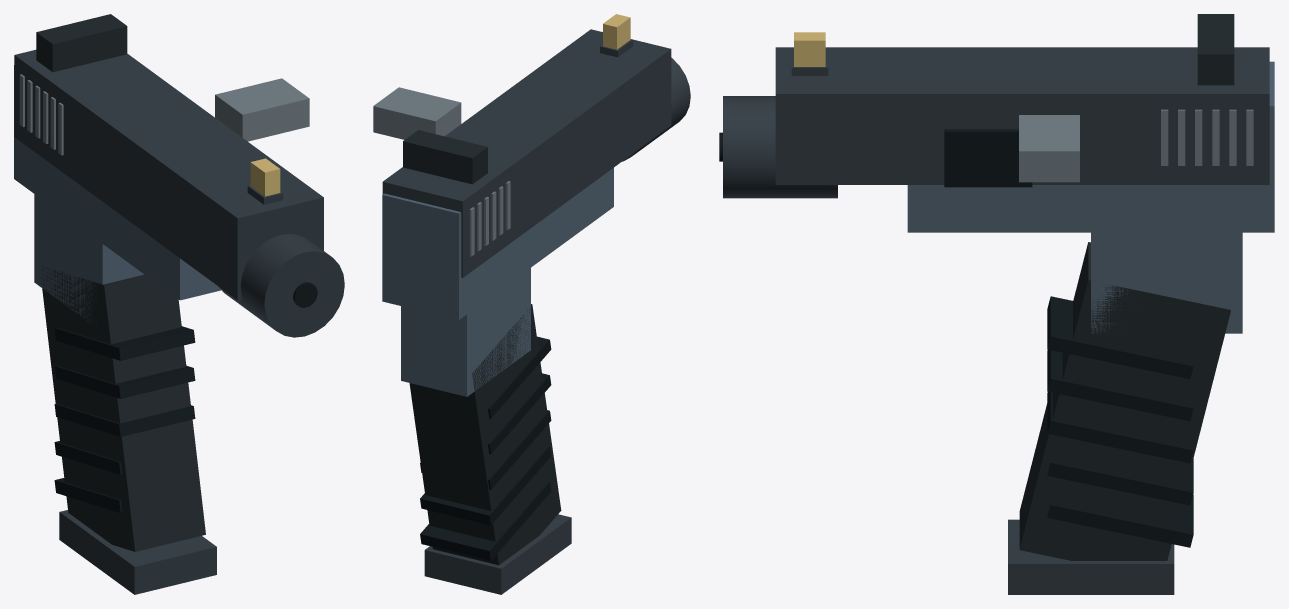
Rendered from pistol_01_swift.glb.
The picture shows the model from 3 angles, left to right: view 1: azimuth 30°, elevation 25°; view 2: azimuth 150°, elevation 25°; view 3: azimuth 270°, elevation 25°; orthographic projection. The views are drawn at different scales.
Parts seen in each view (by area): view 1: slide, grip, receiver, muzzle_device, grip_tang, grip_base, charging_handle, pistol_rear_sight, grip_rib_4, grip_rib_3, grip_rib_2, pistol_front_sight (+3 smaller); view 2: slide, grip, receiver, grip_tang, grip_base, charging_handle, pistol_rear_sight, grip_rib_0, grip_rib_1, muzzle_device, grip_rib_4, grip_rib_3 (+2 smaller); view 3: slide, grip, receiver, grip_tang, grip_base, muzzle_device, ejection_port, charging_handle, grip_rib_4, pistol_rear_sight, grip_rib_0, grip_rib_3 (+3 smaller).
Part boxes in pixels (left/top/right/bottom): slide: left=14, top=49, right=323, bottom=300; grip: left=41, top=266, right=205, bottom=551; receiver: left=14, top=65, right=221, bottom=300; muzzle_device: left=218, top=234, right=344, bottom=337; grip_tang: left=34, top=194, right=143, bottom=329; grip_base: left=59, top=510, right=216, bottom=594; charging_handle: left=215, top=78, right=309, bottom=141; pistol_rear_sight: left=36, top=14, right=127, bottom=72; grip_rib_4: left=54, top=326, right=195, bottom=360; grip_rib_3: left=54, top=365, right=195, bottom=398; grip_rib_2: left=54, top=403, right=195, bottom=436; pistol_front_sight: left=250, top=158, right=280, bottom=196; slide: left=382, top=29, right=671, bottom=277; grip: left=409, top=304, right=561, bottom=565; receiver: left=382, top=168, right=613, bottom=319; grip_tang: left=401, top=268, right=530, bottom=396; grip_base: left=424, top=514, right=571, bottom=594; charging_handle: left=373, top=87, right=461, bottom=139; pistol_rear_sight: left=403, top=130, right=487, bottom=184; grip_rib_0: left=420, top=481, right=551, bottom=560; grip_rib_1: left=420, top=446, right=551, bottom=525; muzzle_device: left=622, top=57, right=690, bottom=161; grip_rib_4: left=488, top=336, right=551, bottom=418; grip_rib_3: left=488, top=373, right=551, bottom=454; slide: left=775, top=47, right=1269, bottom=184; grip: left=1019, top=242, right=1230, bottom=560; receiver: left=907, top=61, right=1274, bottom=232; grip_tang: left=1091, top=232, right=1242, bottom=333; grip_base: left=1008, top=519, right=1174, bottom=594; muzzle_device: left=723, top=96, right=837, bottom=198; ejection_port: left=944, top=129, right=1032, bottom=187; charging_handle: left=1019, top=115, right=1079, bottom=182; grip_rib_4: left=1047, top=296, right=1193, bottom=379; pistol_rear_sight: left=1197, top=14, right=1234, bottom=85; grip_rib_0: left=1047, top=494, right=1193, bottom=547; grip_rib_3: left=1047, top=349, right=1193, bottom=421.
Size of the model in its own units: 0.096 by 0.243 by 0.227.
